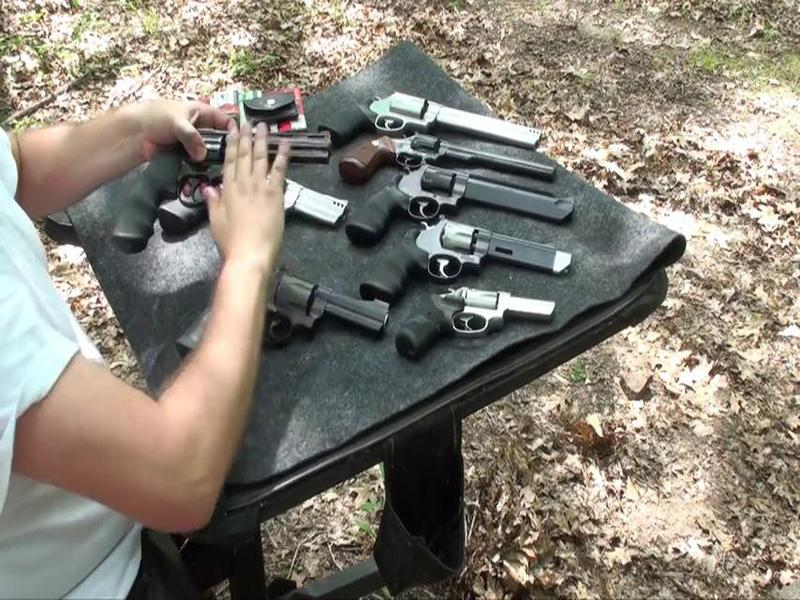Revolver: (102, 110, 352, 259)
